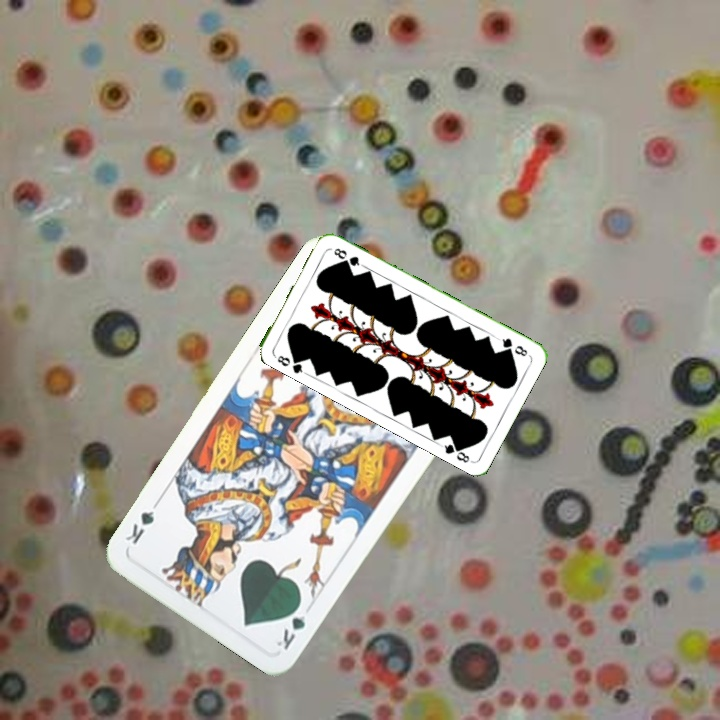G8: (270, 351, 308, 376), (494, 334, 530, 359)
GK: (272, 596, 308, 653)
